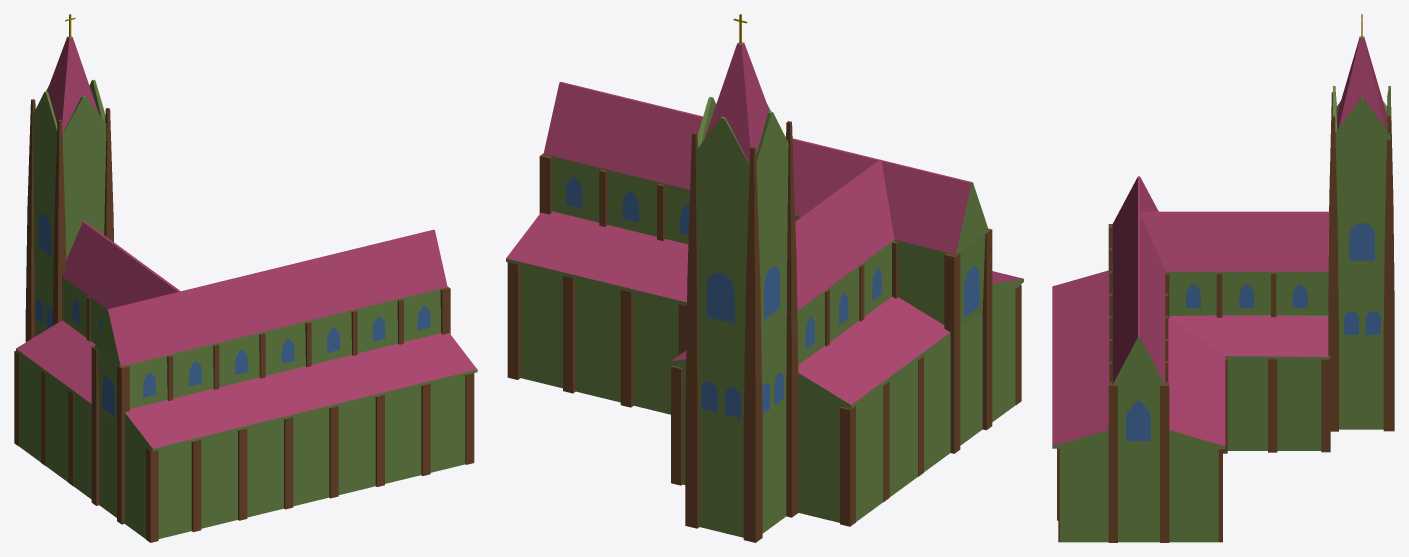
Rendered from Church_LOD.fbx.
3 views of the same model, side by side, from view 1: azimuth 30°, elevation 25°; view 2: azimuth 150°, elevation 25°; view 3: azimuth 270°, elevation 25° (orthographic). The views are drawn at different scales.
Parts seen in each view (by area): view 1: Church_LOD; view 2: Church_LOD; view 3: Church_LOD.
Part boxes in pixels (x1,y1,x2,y2): Church_LOD: (14,14,477,542); Church_LOD: (506,14,1023,542); Church_LOD: (1052,14,1394,542).
Bounding box in the file's own units: 21.57 × 25.08 × 19.3.
